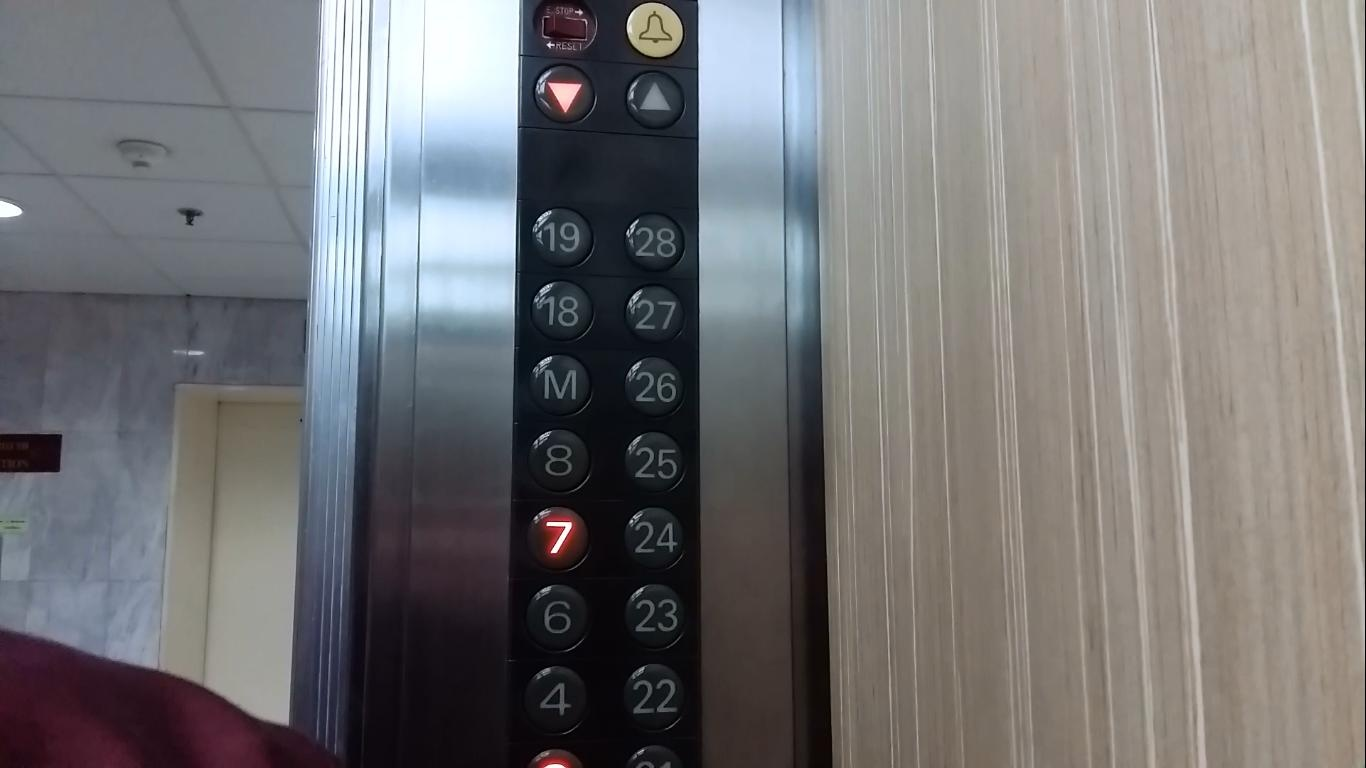18: (530, 278, 596, 343)
19: (527, 207, 595, 270)
22: (621, 662, 685, 733)
23: (623, 582, 687, 652)
24: (622, 505, 685, 569)
25: (622, 431, 687, 494)
26: (624, 355, 684, 416)
27: (623, 284, 686, 345)
28: (620, 209, 688, 274)
4: (525, 664, 587, 737)
6: (525, 584, 591, 652)
7: (525, 505, 592, 572)
8: (528, 428, 592, 495)
M: (529, 352, 592, 418)
alarm: (625, 1, 689, 59)
down: (531, 63, 598, 127)
switch: (539, 13, 591, 44)
up: (624, 69, 688, 134)
